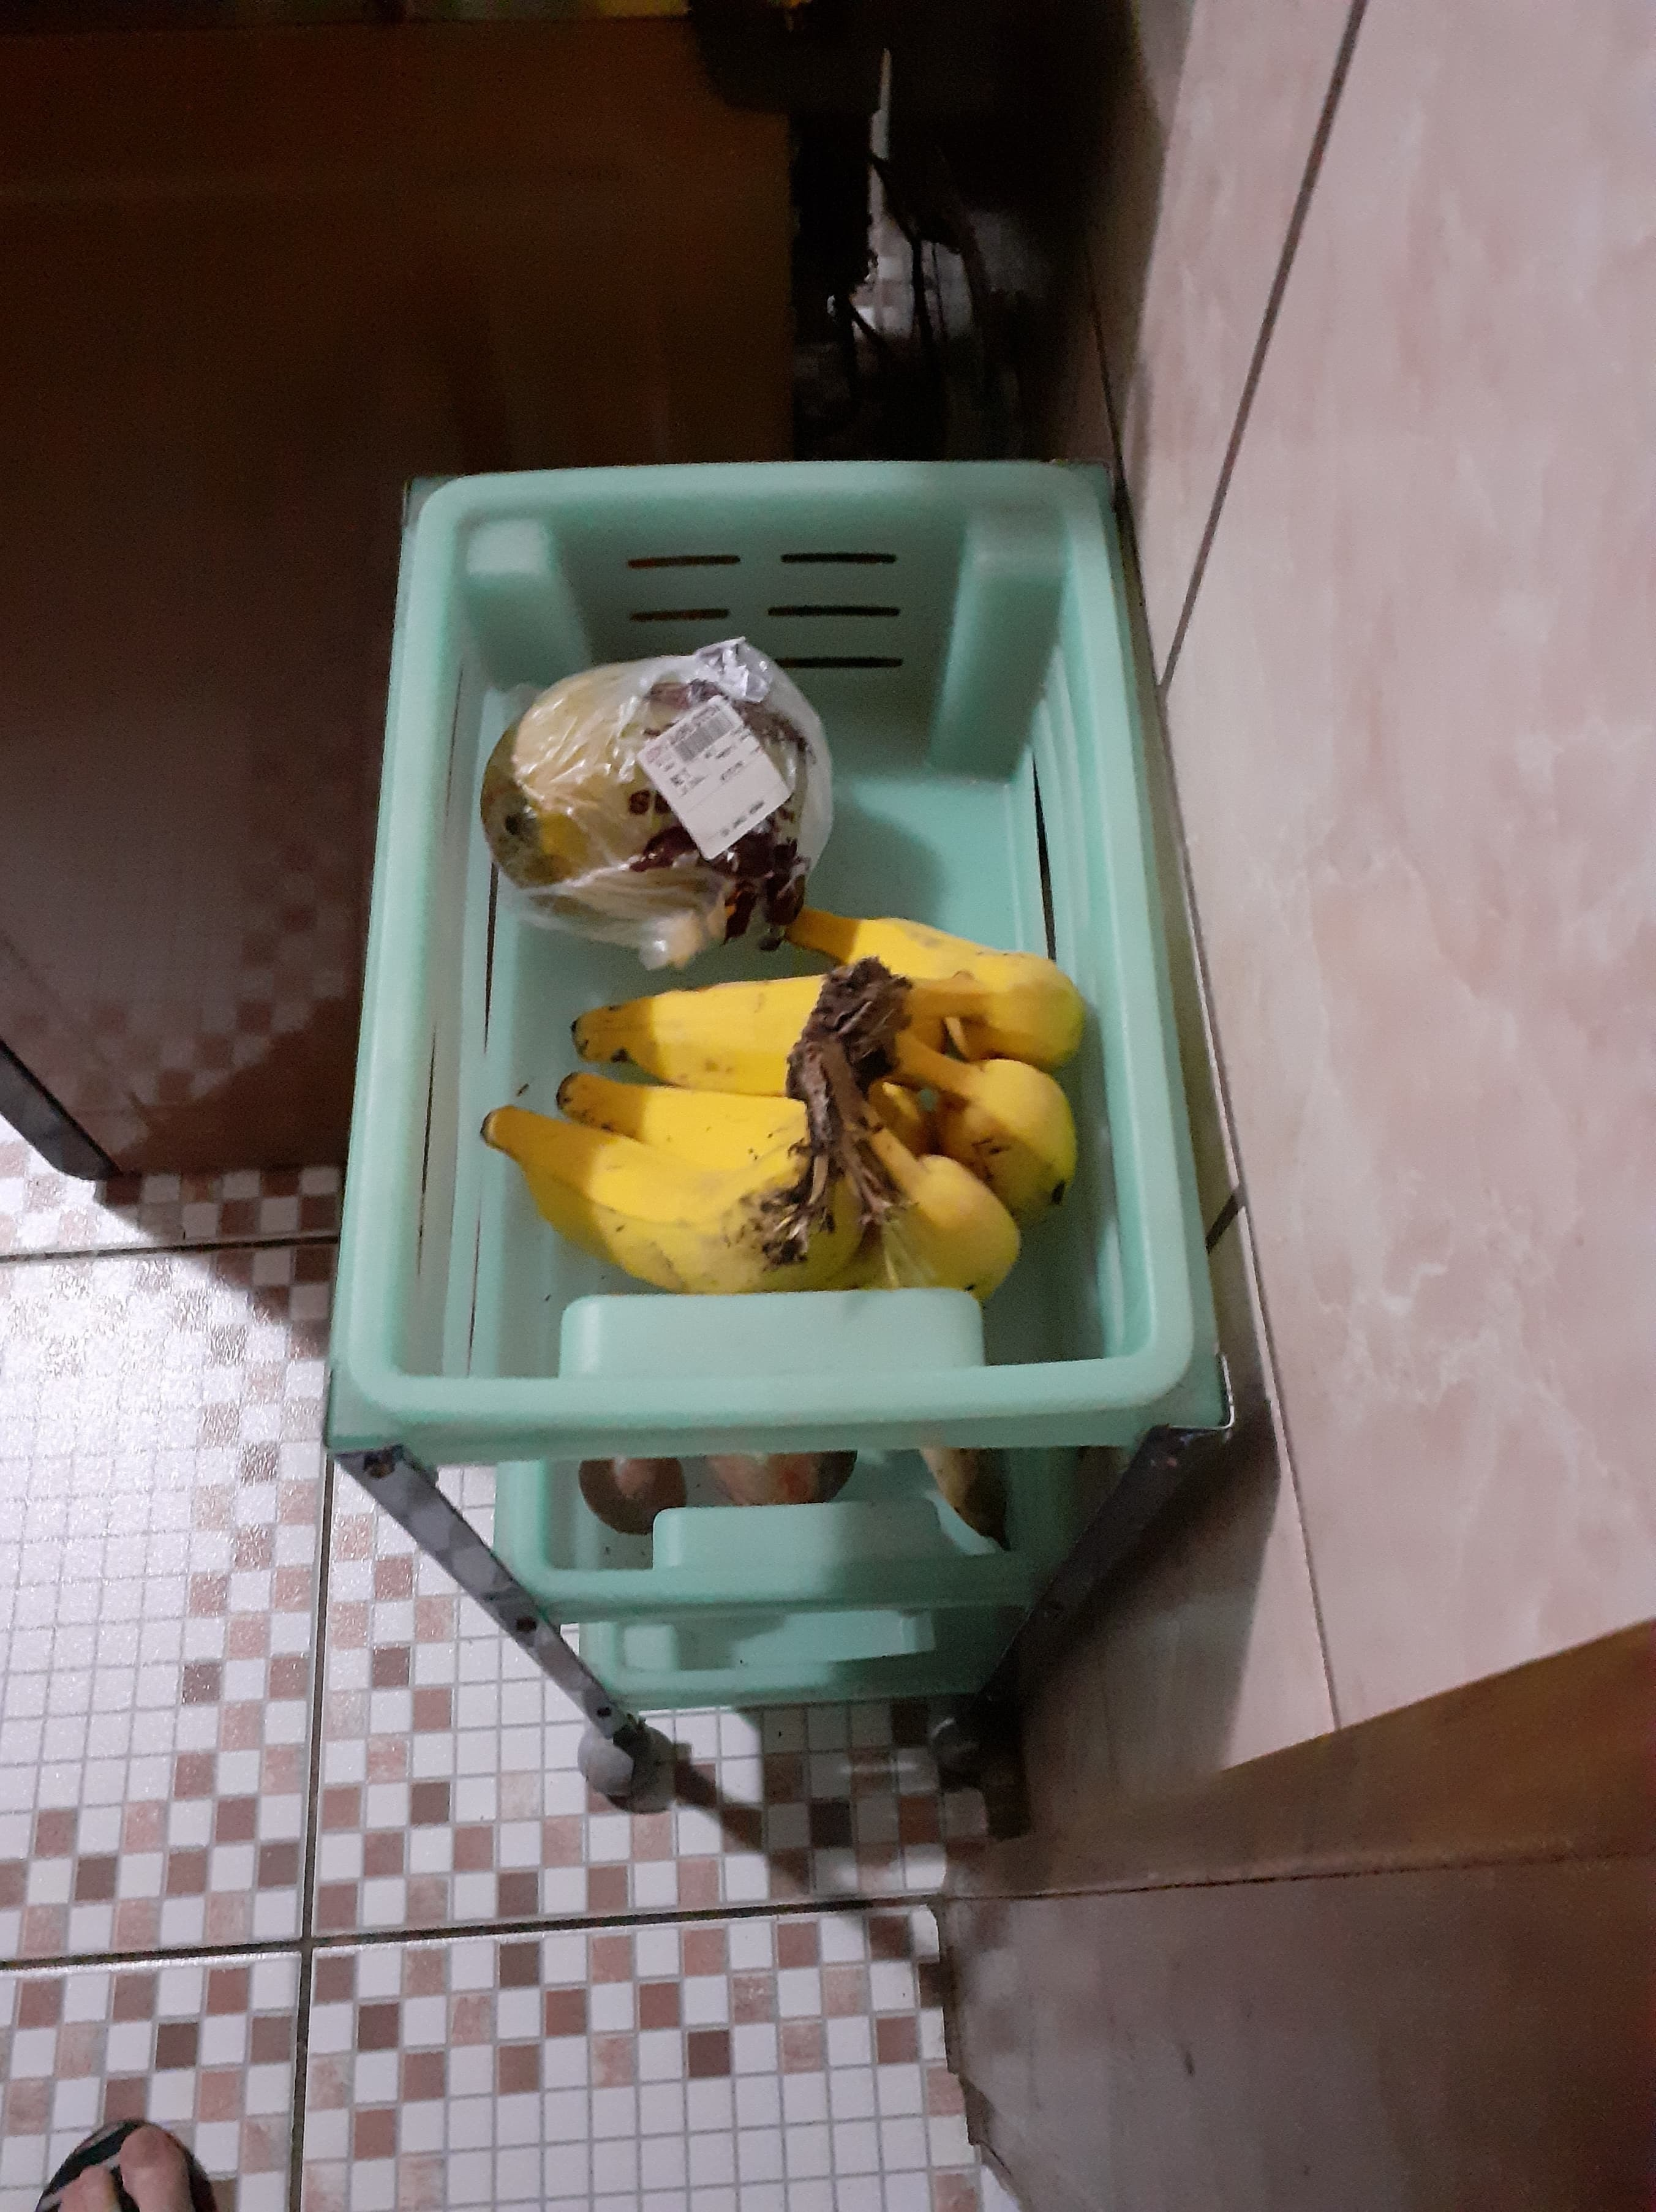banana: (569, 953, 1082, 1327)
